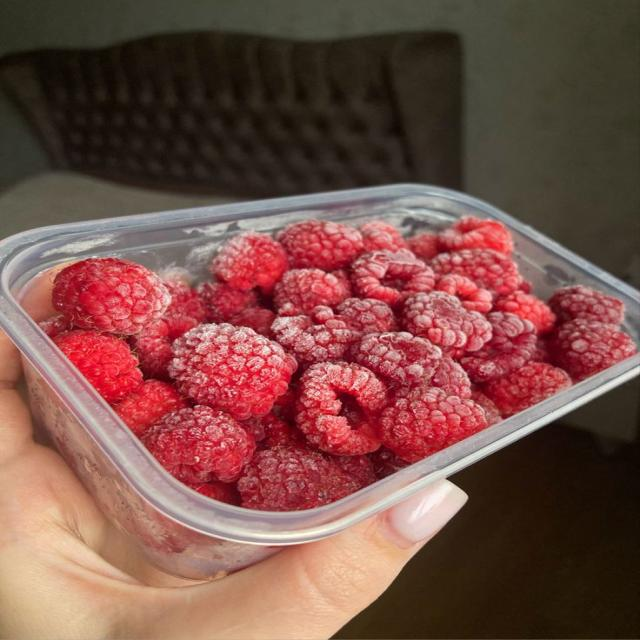raspberry: (169, 324, 296, 419), (141, 406, 255, 486), (53, 258, 170, 334), (296, 363, 386, 454), (380, 388, 486, 462), (238, 448, 360, 511), (54, 330, 142, 403), (460, 312, 536, 382), (550, 320, 637, 381), (402, 292, 492, 350), (272, 306, 360, 364), (483, 363, 572, 416), (351, 332, 441, 384), (211, 231, 288, 290), (353, 250, 435, 305), (131, 314, 199, 379), (114, 380, 189, 437), (278, 220, 363, 270), (431, 249, 520, 295), (274, 269, 349, 315), (395, 355, 472, 399), (439, 216, 513, 255), (549, 286, 624, 324), (494, 291, 555, 334), (196, 282, 258, 322), (434, 275, 493, 313), (337, 298, 398, 334), (244, 413, 306, 448), (427, 355, 472, 399), (162, 280, 207, 322), (229, 306, 276, 337), (331, 455, 376, 487), (360, 221, 406, 252), (367, 446, 409, 479), (192, 481, 240, 506), (471, 389, 502, 426), (407, 233, 440, 262), (273, 386, 296, 422), (157, 265, 194, 286), (40, 315, 72, 338), (331, 269, 353, 296), (531, 336, 551, 362), (517, 280, 533, 293)
